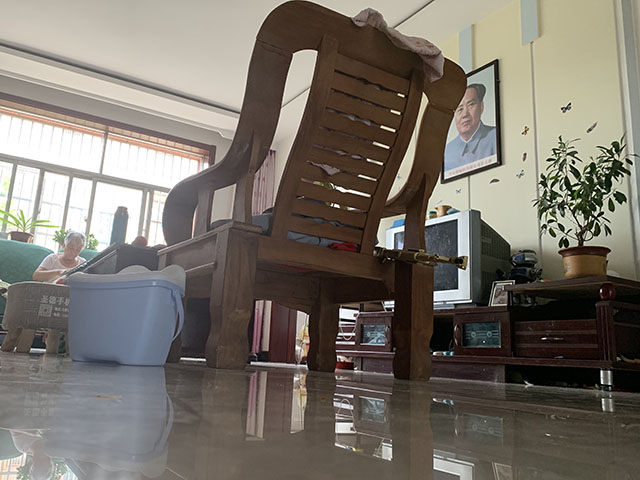cabinet: (336, 272, 640, 391)
sofa: (156, 1, 468, 382)
stool: (1, 281, 70, 356)
trashcan: (67, 263, 187, 367)
